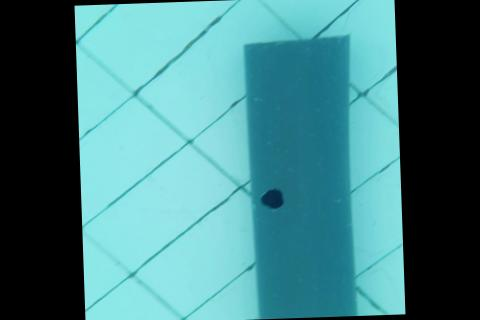kebocoran: (258, 187, 285, 210)
